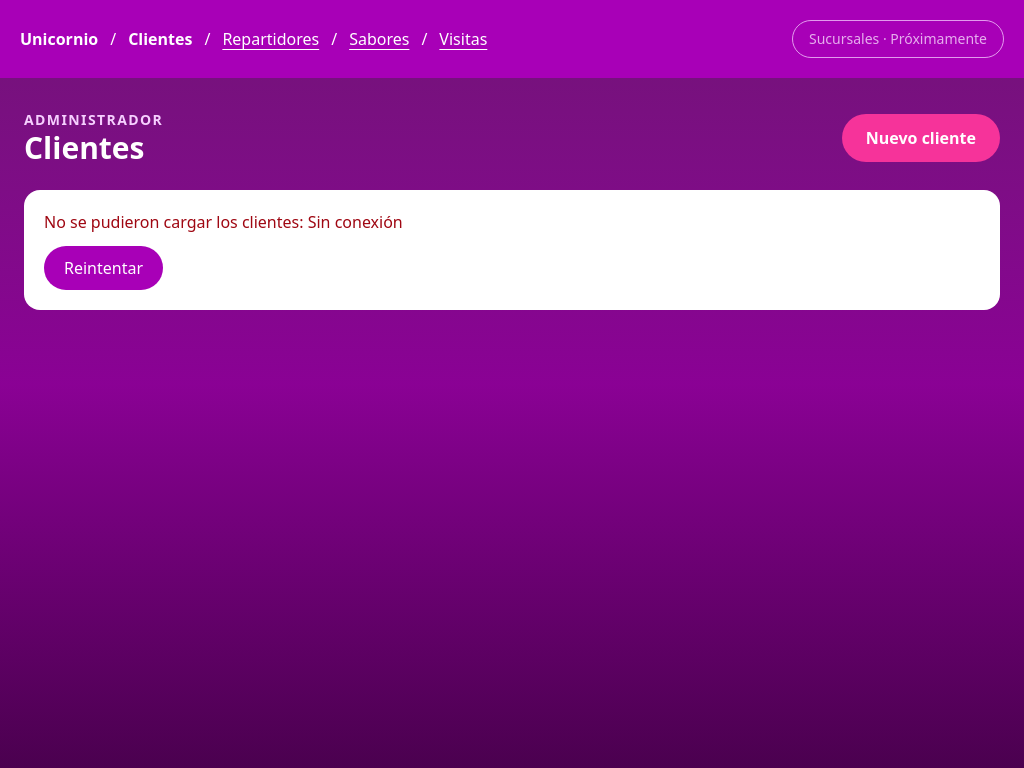
Test case: ClientesPage › shows an API error with a retry action
Expected: the message "No se pudieron cargar los clientes: Sin conexión Reintentar" is shown, [24,190,1000,310]
Click the button "Reintentar" at point(104, 268), box [44,246,163,290]
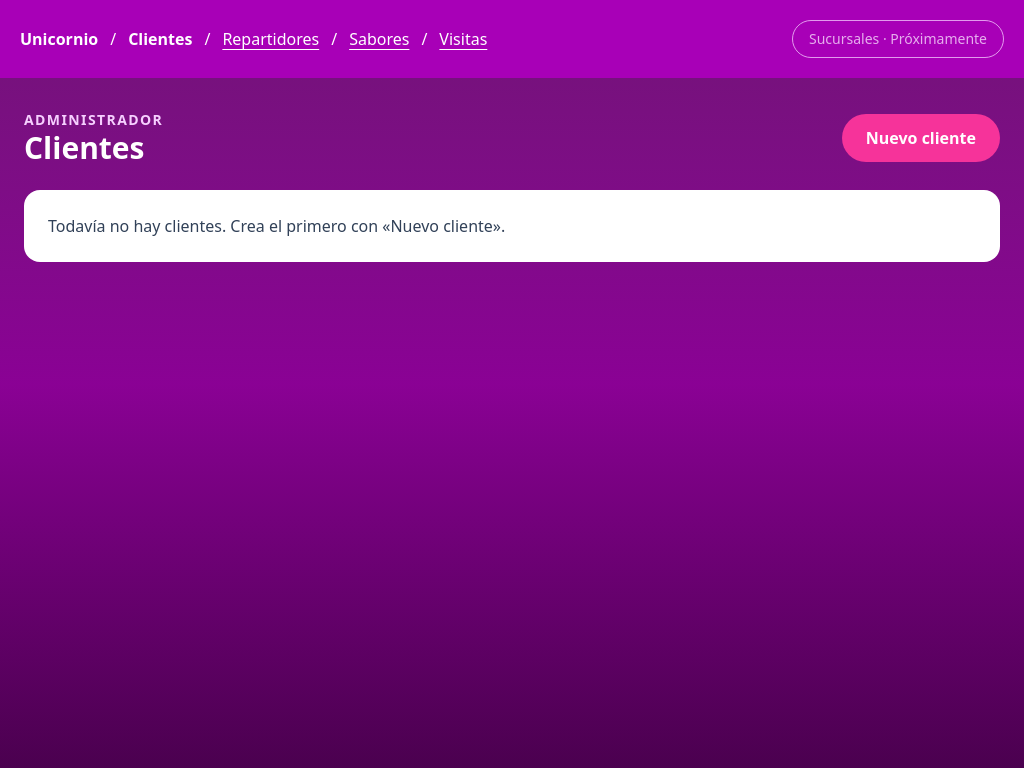
Expected: the text "Todavía no hay clientes" is shown, [48,215,505,237]
